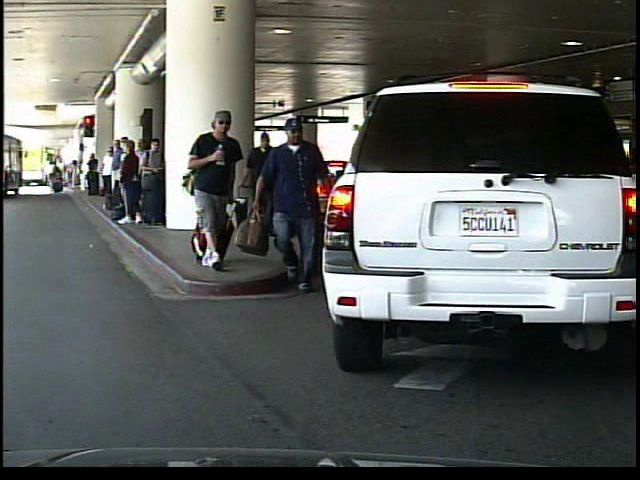person: (251, 100, 326, 287), (186, 105, 244, 271), (244, 135, 284, 241)
